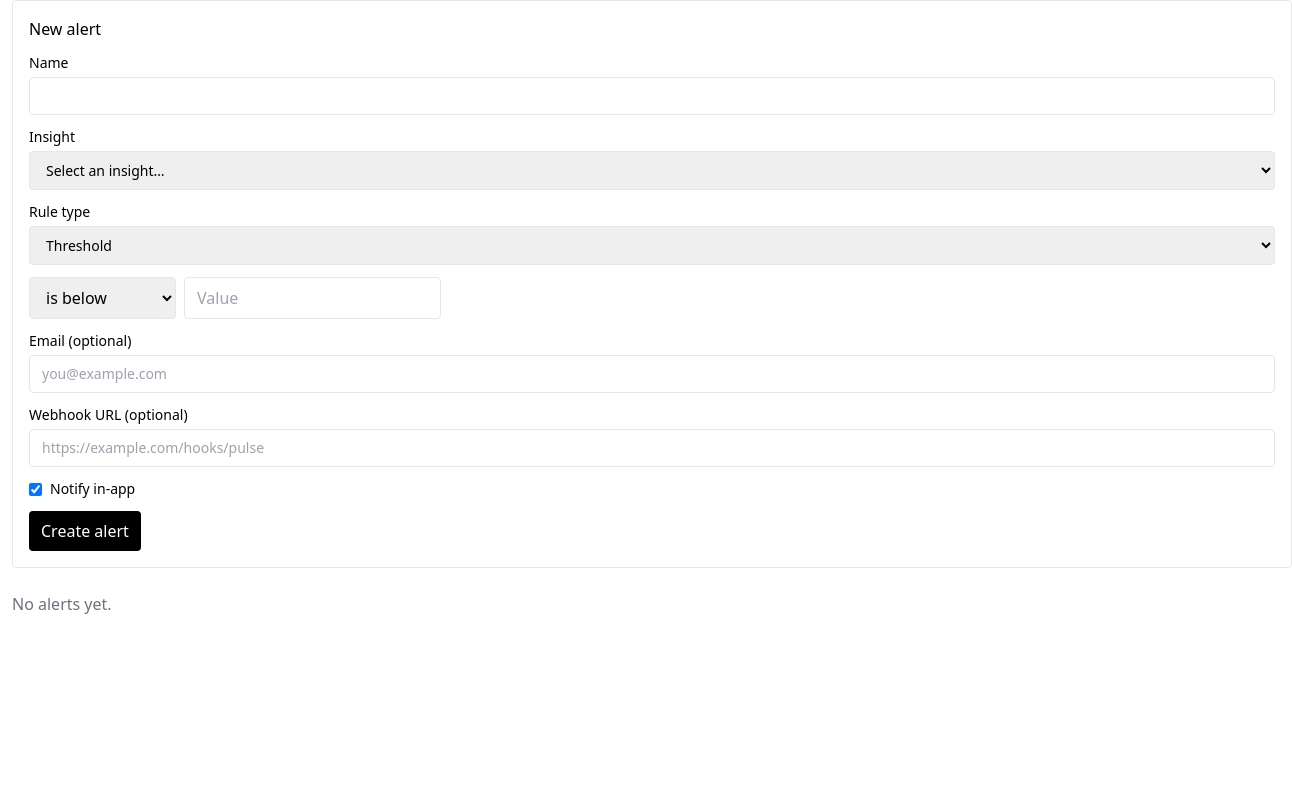
Test: AlertList › refuses to submit without a name, insight, or threshold value
Expected: the heading "New alert" is shown, top-left (29, 18), bottom-right (101, 40)
Click the button "Create alert": point(85, 531) top-left (29, 511), bottom-right (141, 551)
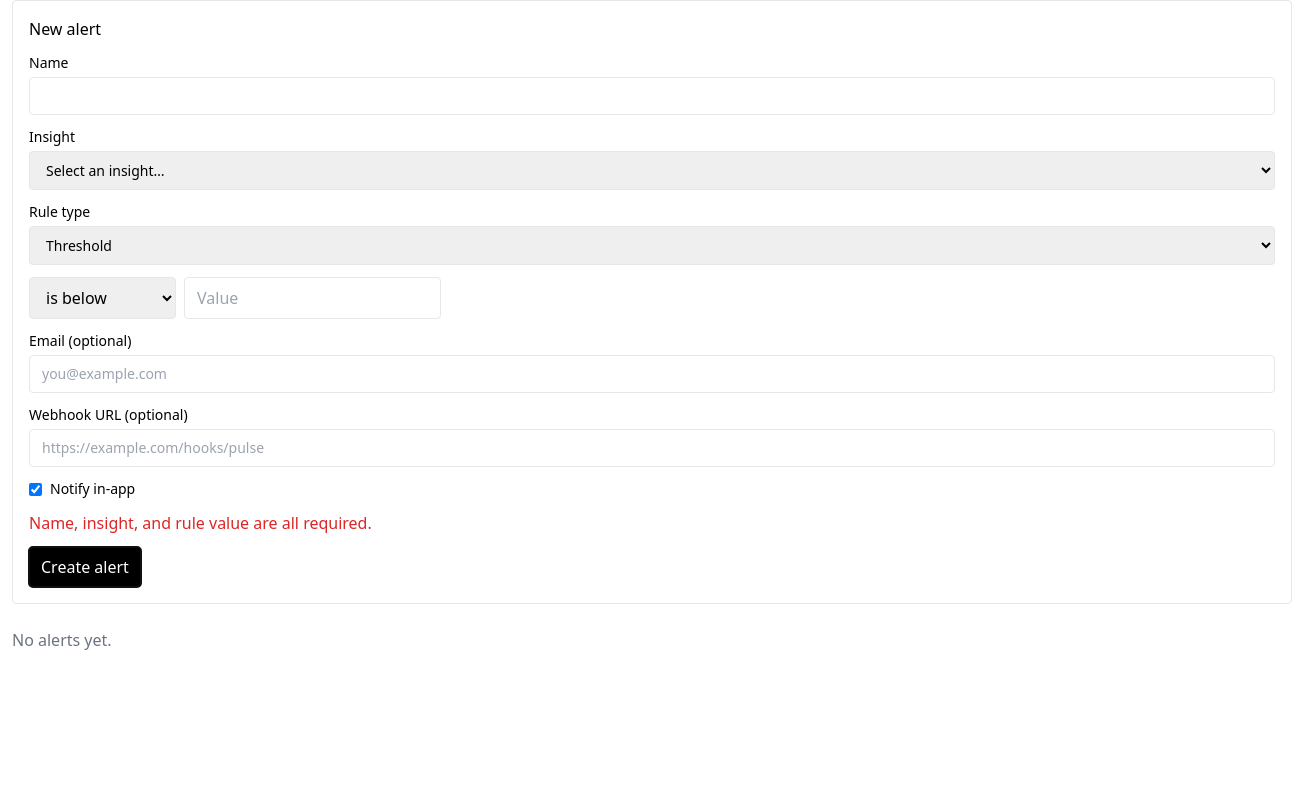
Expected: the text "Name, insight, and rule value are all required." is shown, top-left (29, 512), bottom-right (372, 534)
